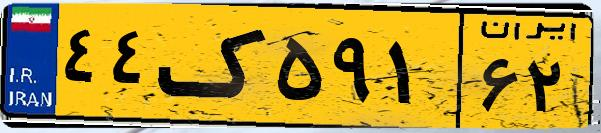1: (385, 28, 445, 110)
2: (525, 38, 570, 115)
4: (57, 26, 110, 100), (110, 28, 158, 98)
5: (270, 28, 330, 110)
6: (475, 38, 525, 113)
9: (330, 28, 385, 110)
ک: (158, 12, 270, 120)
